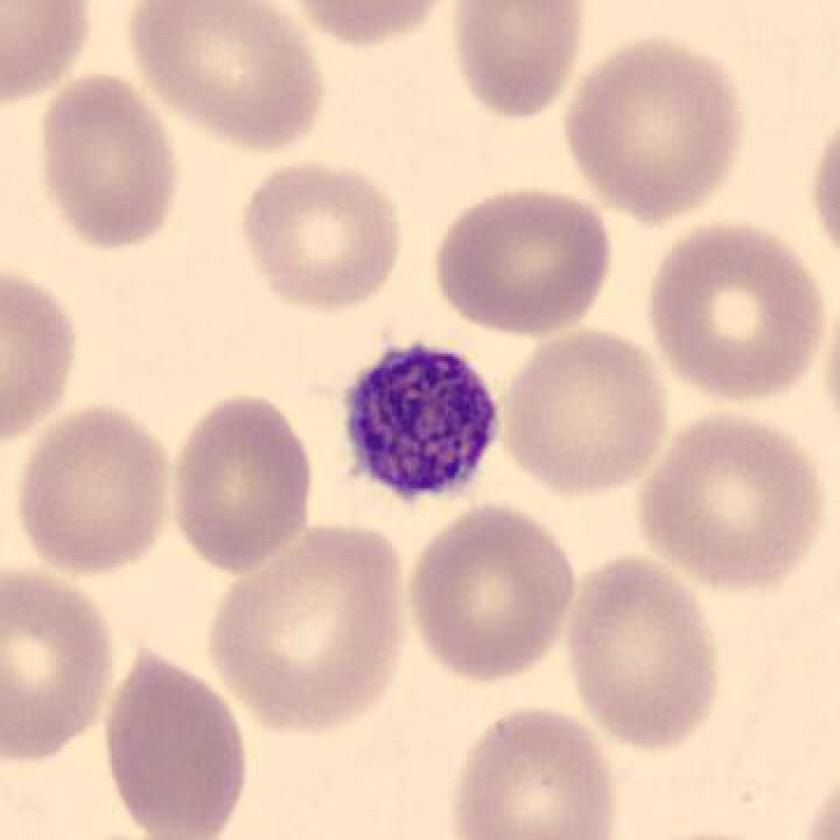platelets: (332, 327, 512, 515)
